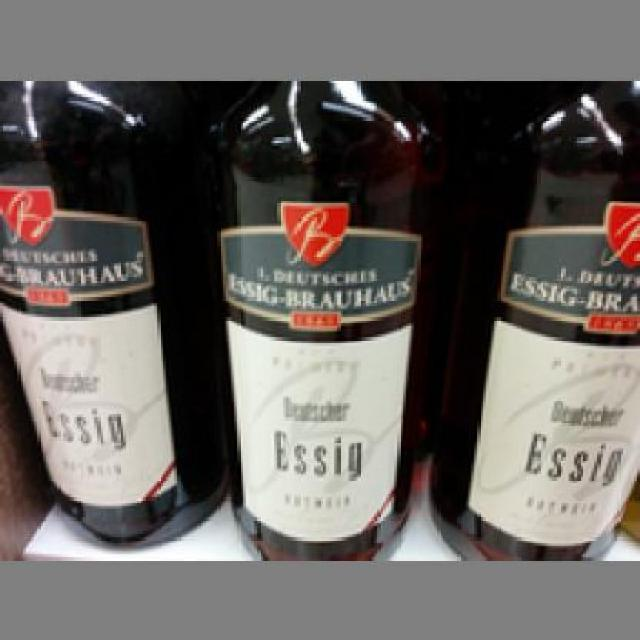Vinegar: (206, 77, 434, 557), (0, 77, 226, 554), (448, 77, 638, 557)
